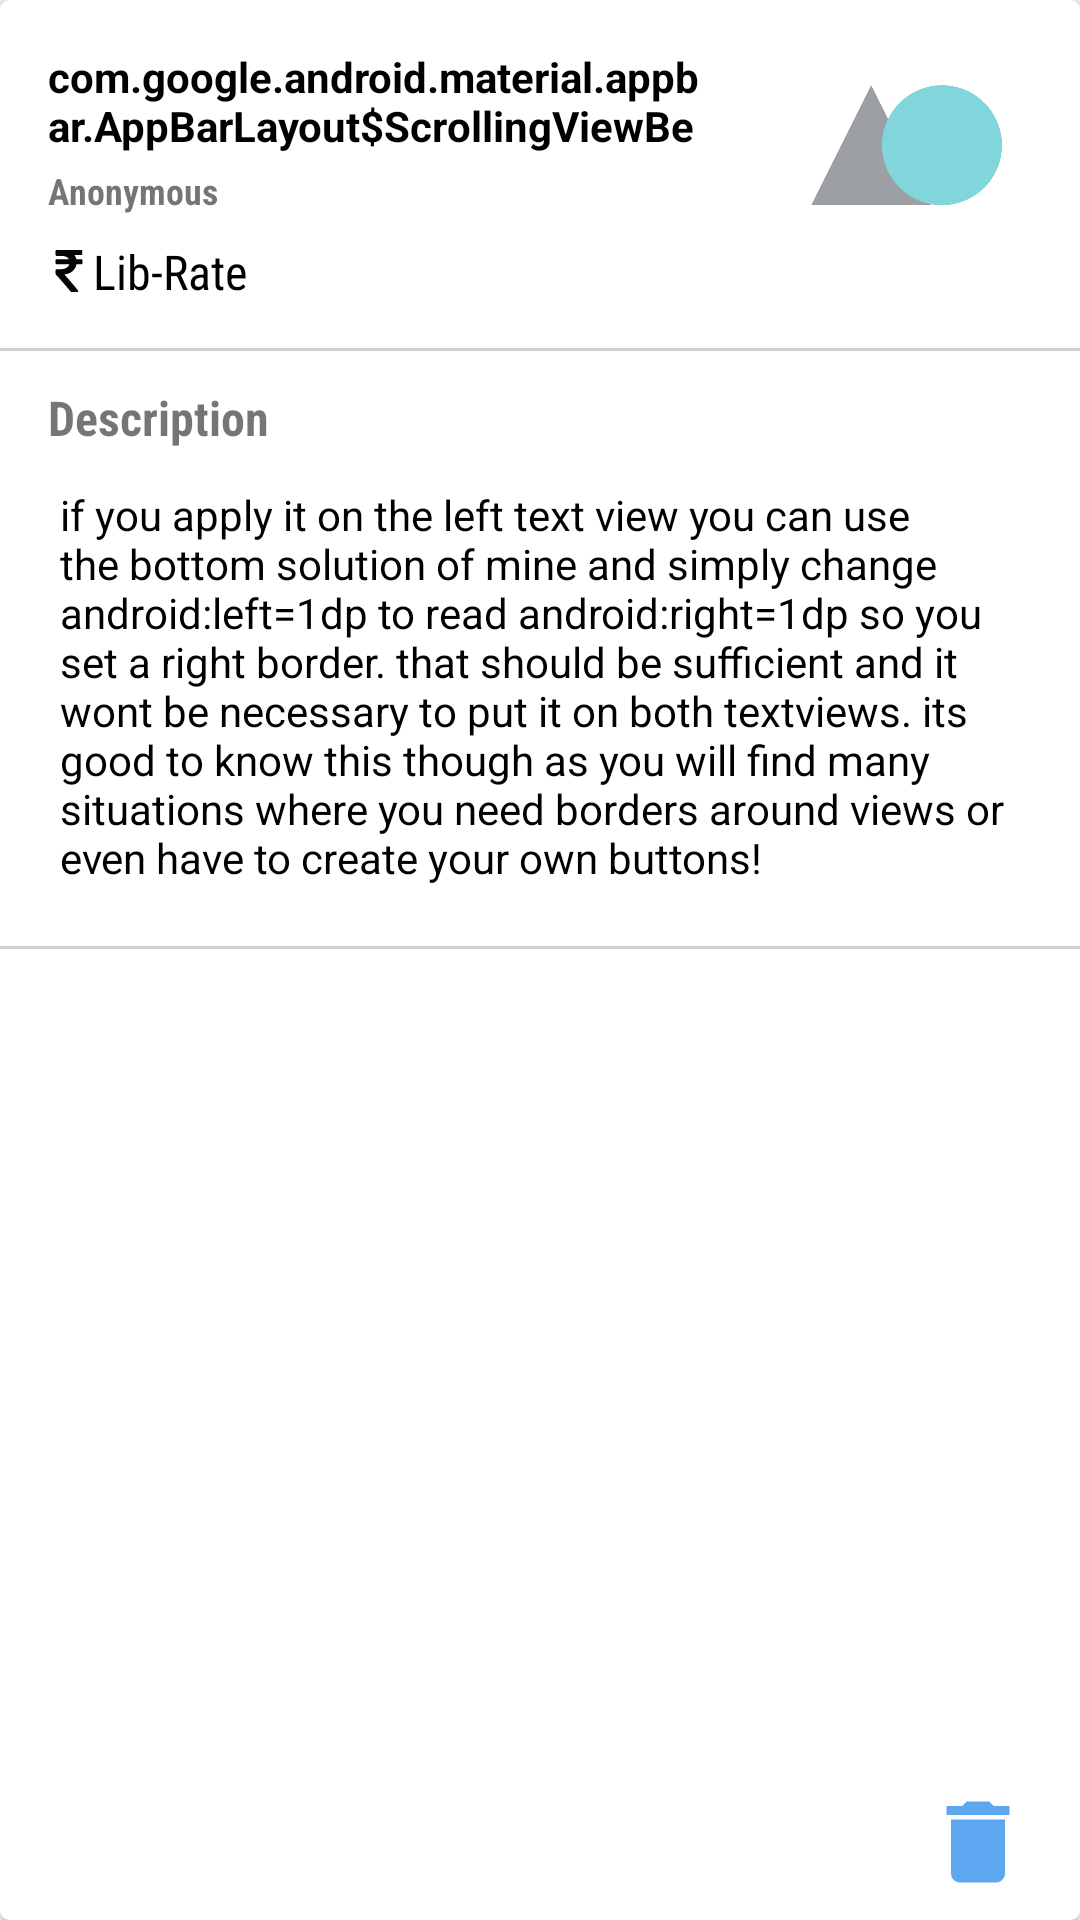

Where icons sit on this 1080w x 1920h app screen, as Rect(x1, y1, x2, y2):
delete: Rect(946, 1801, 1010, 1883)
